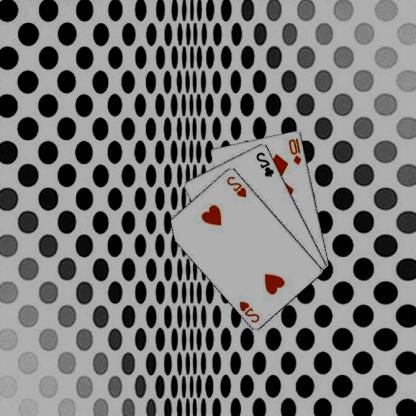10D: (288, 135, 304, 166)
2C: (255, 149, 277, 178)
2H: (238, 298, 262, 324), (226, 173, 250, 198)
